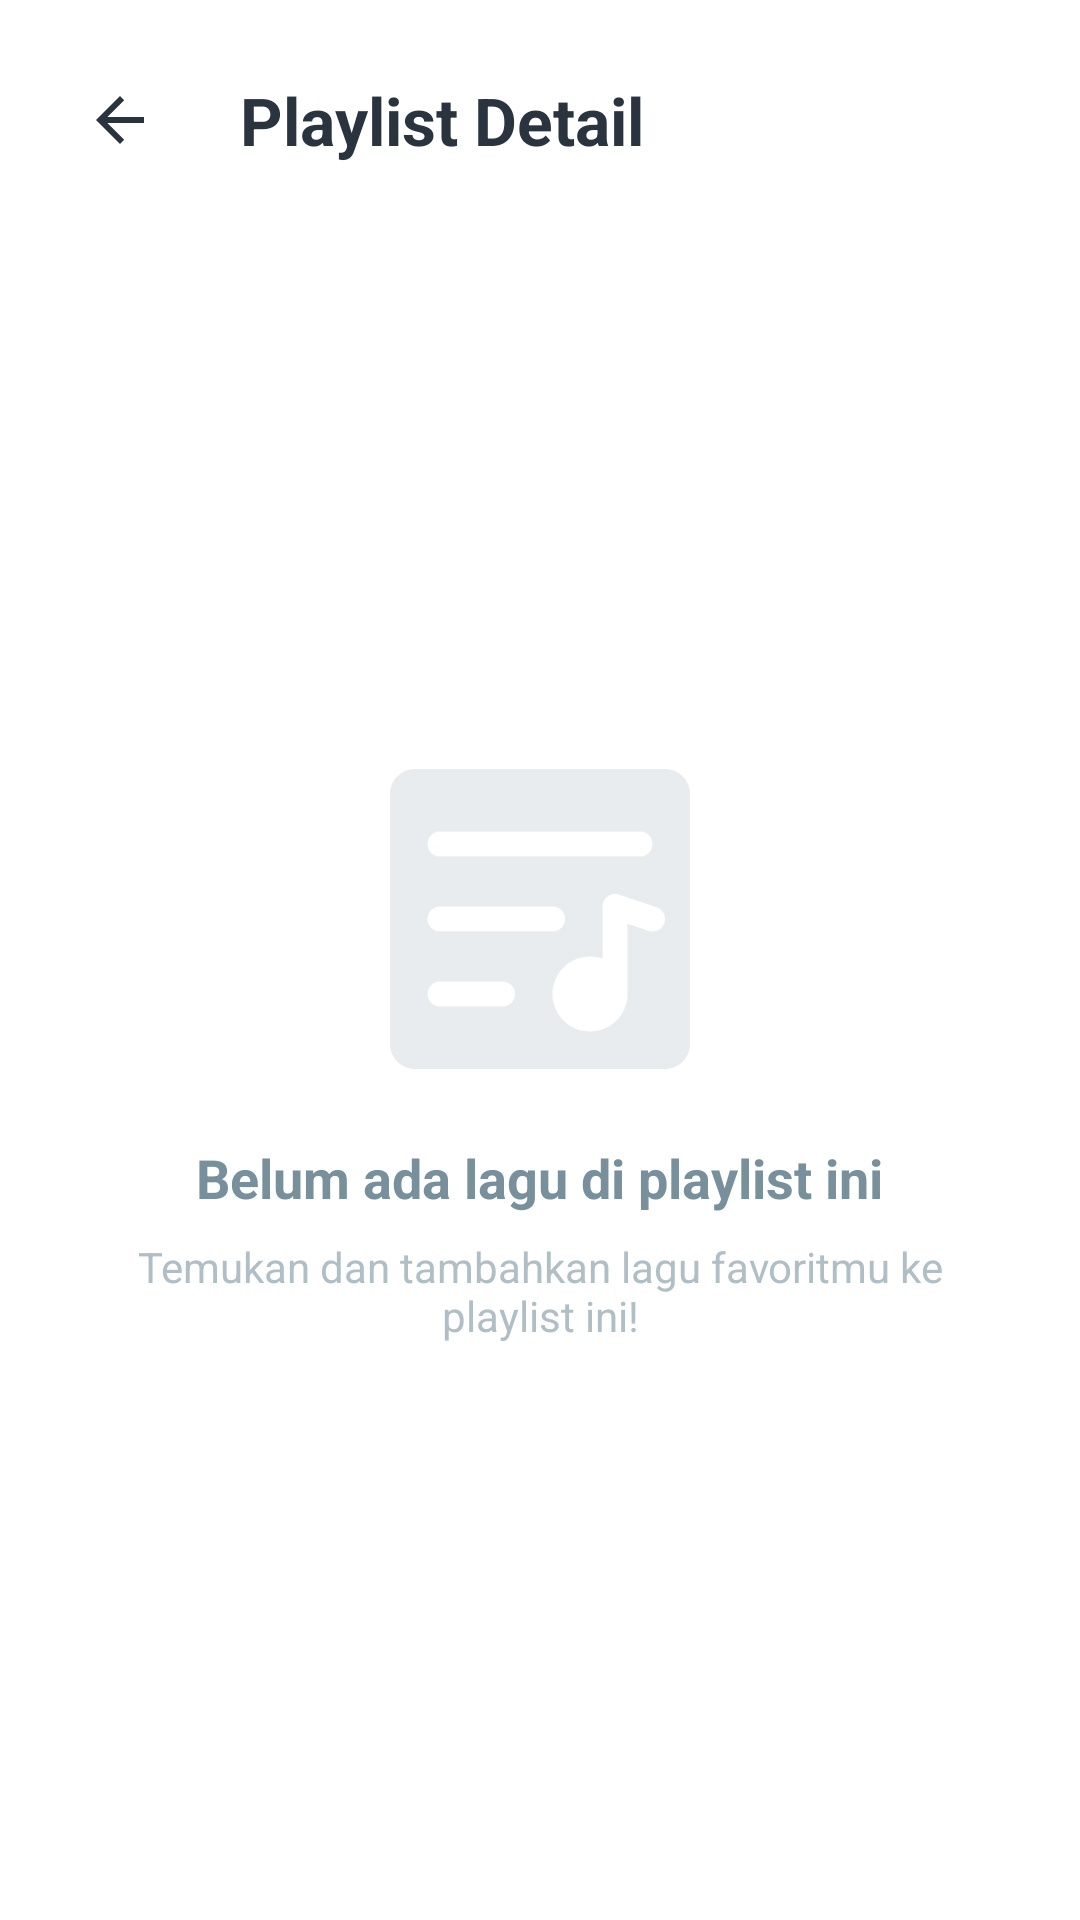

Named icons in this screenshot (1080px×1920px) and their bounding boxes, (x1, y1, x2, y2):
kembali: (96, 96, 144, 144)
